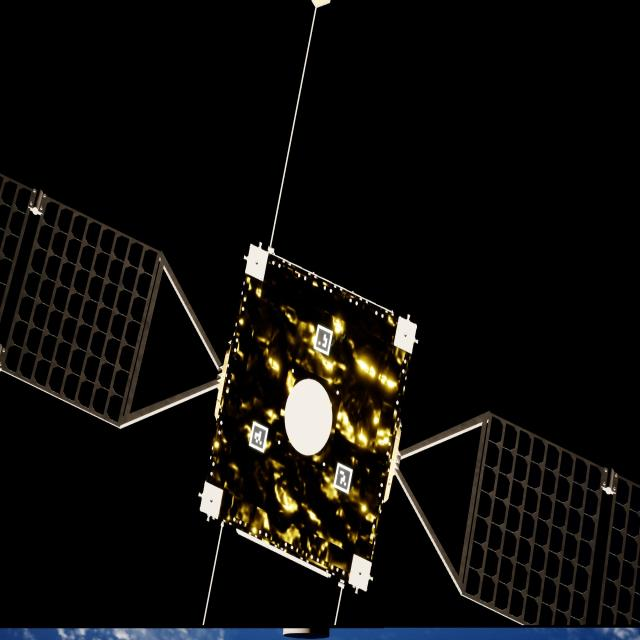satellite: (0, 173, 640, 630)
